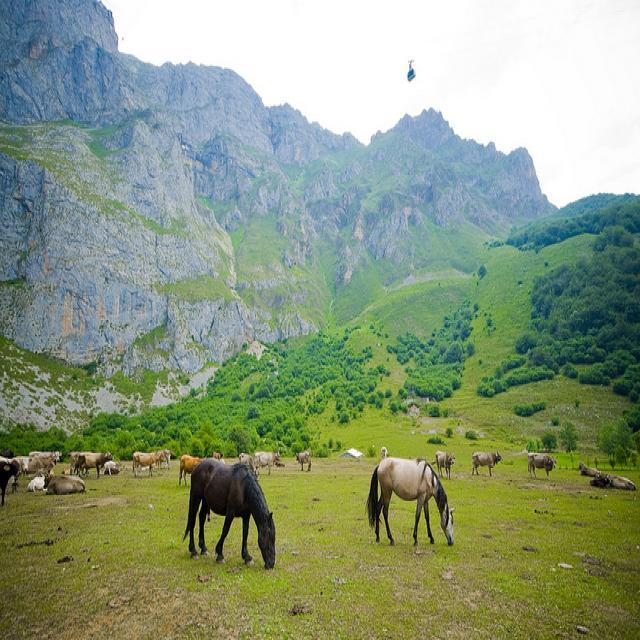cow: (0, 45, 604, 504), (72, 449, 112, 476), (42, 471, 84, 493), (525, 450, 556, 479), (131, 449, 164, 476), (470, 447, 502, 474), (25, 449, 61, 473), (588, 470, 635, 488), (178, 453, 204, 485), (253, 449, 281, 474), (26, 467, 45, 491), (66, 449, 90, 465), (294, 449, 310, 470), (13, 453, 31, 471)
